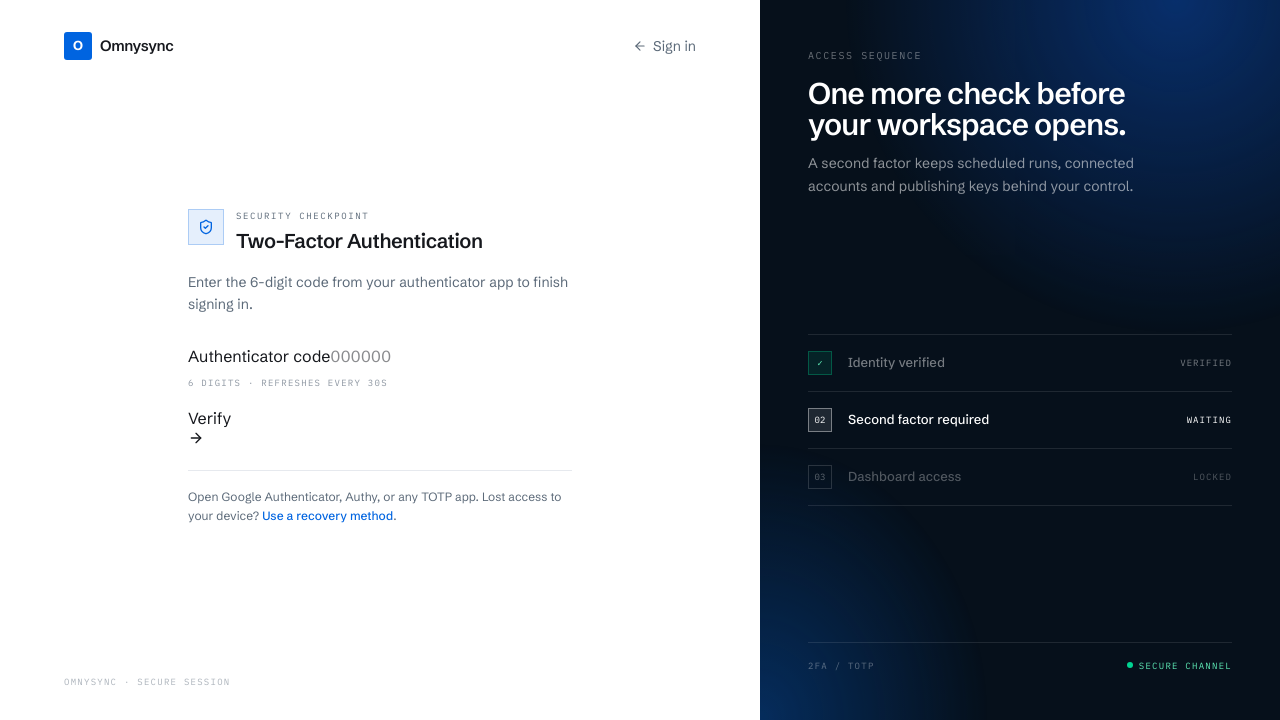
it: TwoFactorVerifyPage › shows error on invalid code
Type "123456" into the field with placeholder "000000" at point(426, 356), box x1=330 y1=344 x2=522 y2=368
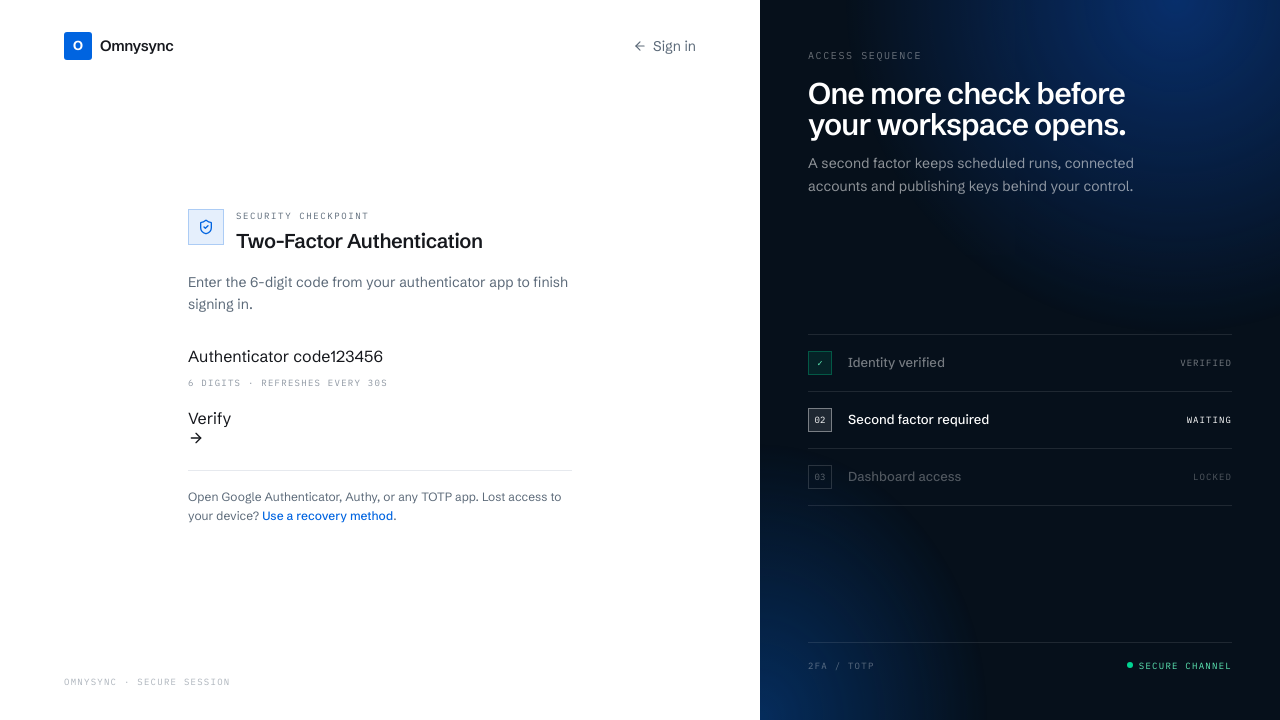
Click the button "Verify" at point(210, 426), box x1=188 y1=406 x2=231 y2=446
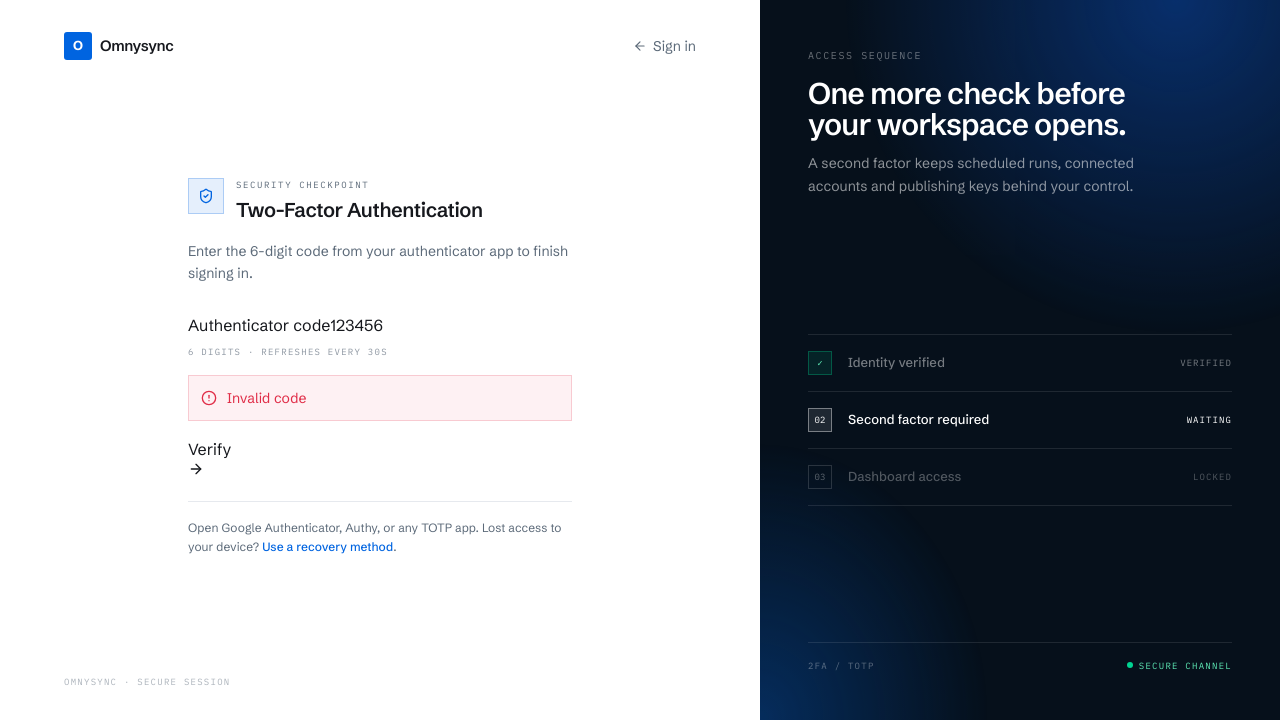
Expected: the text "Invalid code" is shown, x1=227 y1=388 x2=307 y2=408
